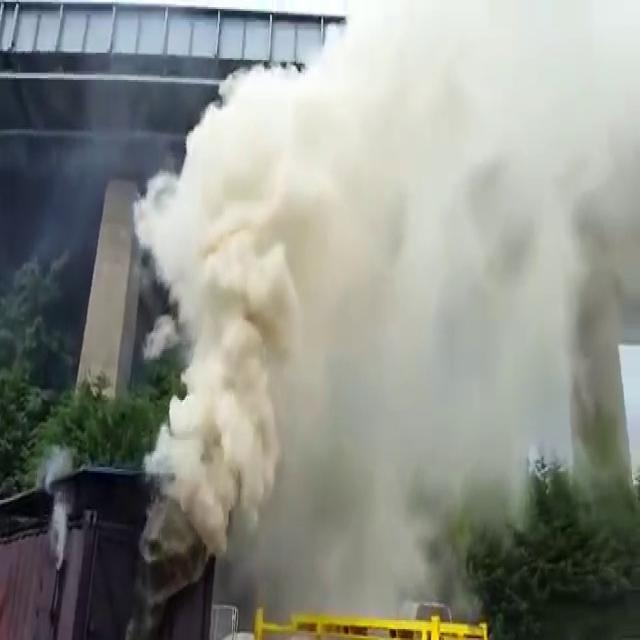Smoke: (130, 43, 546, 551)
